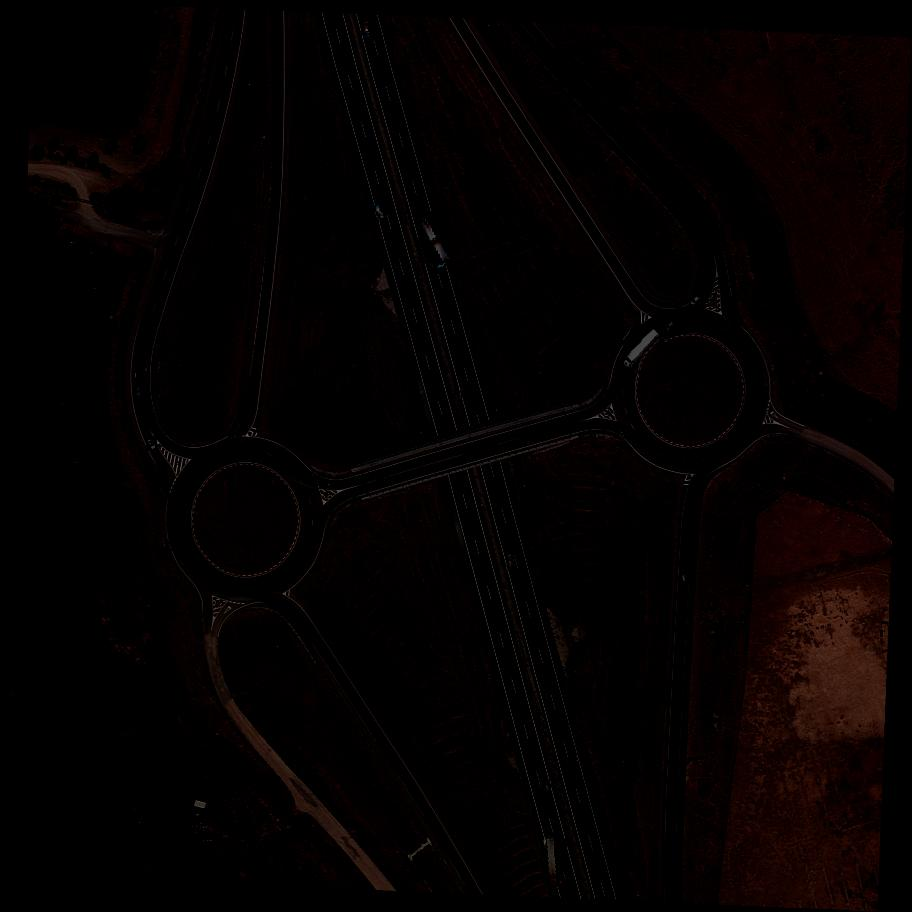large-vehicle: (623, 326, 667, 373), (418, 215, 450, 264), (547, 838, 560, 886)
small-vehicle: (361, 19, 373, 36), (666, 320, 679, 335), (375, 205, 387, 221), (146, 436, 158, 451), (689, 296, 702, 309), (134, 383, 144, 398), (542, 781, 551, 795), (508, 554, 516, 569), (681, 568, 688, 583), (570, 753, 578, 766), (461, 382, 467, 398)
